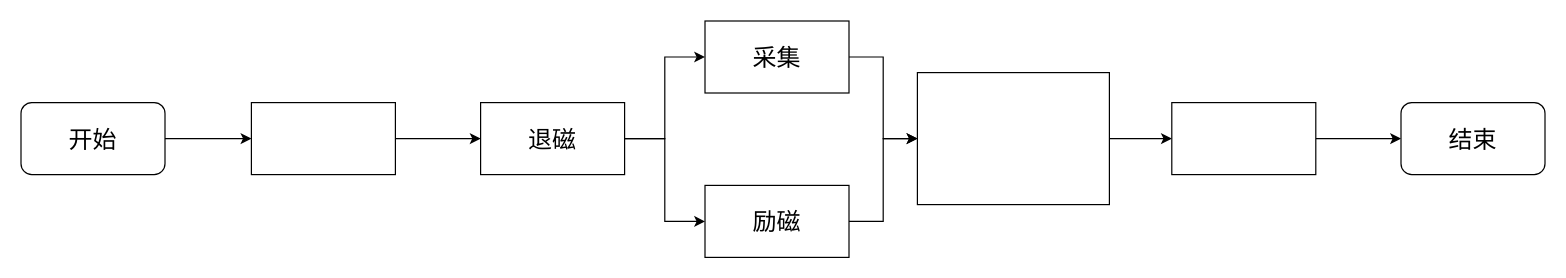
This 1566x278 diagram has some shape labels left out. Here are the shapes that lost their labels. From the top down, the centre of each, then its label:
At point (322, 138): "初始化".
At point (1012, 138): "数据处理 （滤波、直流偏置、相位调整）".
At point (1243, 138): "数据存储".
